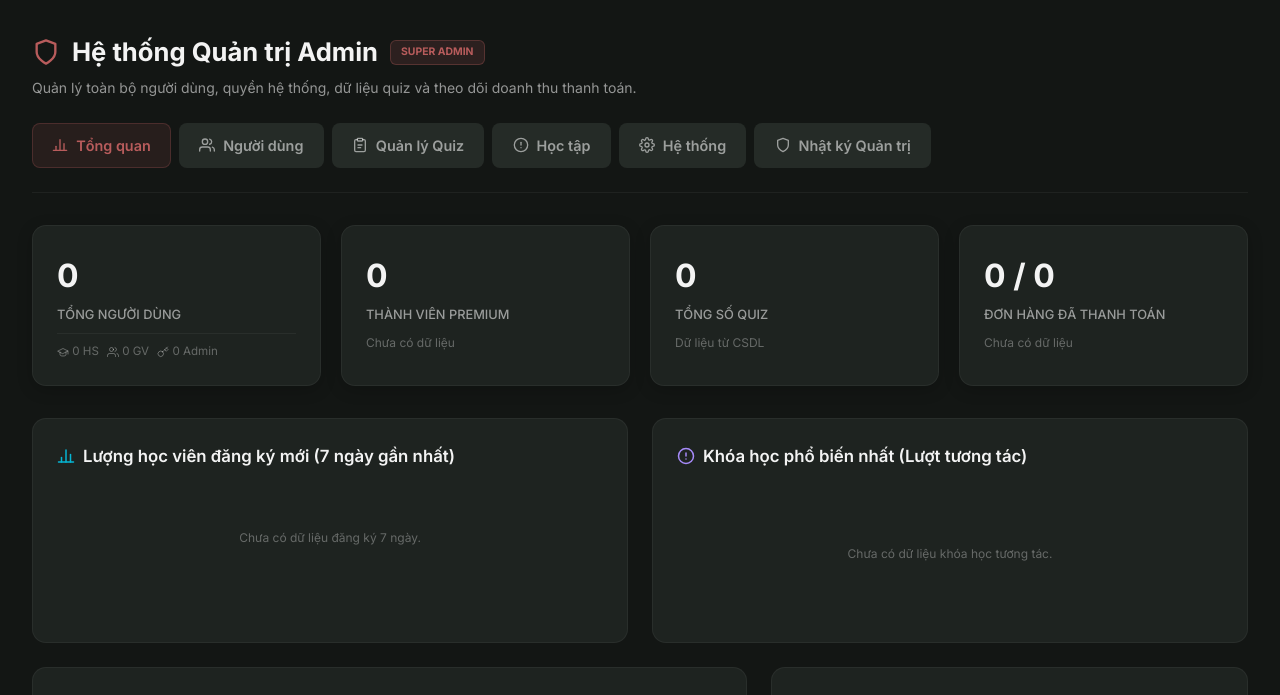
Test case: AdminPanelView — P0 Tests › Quiz Management › shows quiz details when expanded
Click the tab with class "tab-btn" showing "Quản lý Quiz": (408, 145) [332, 123, 484, 168]
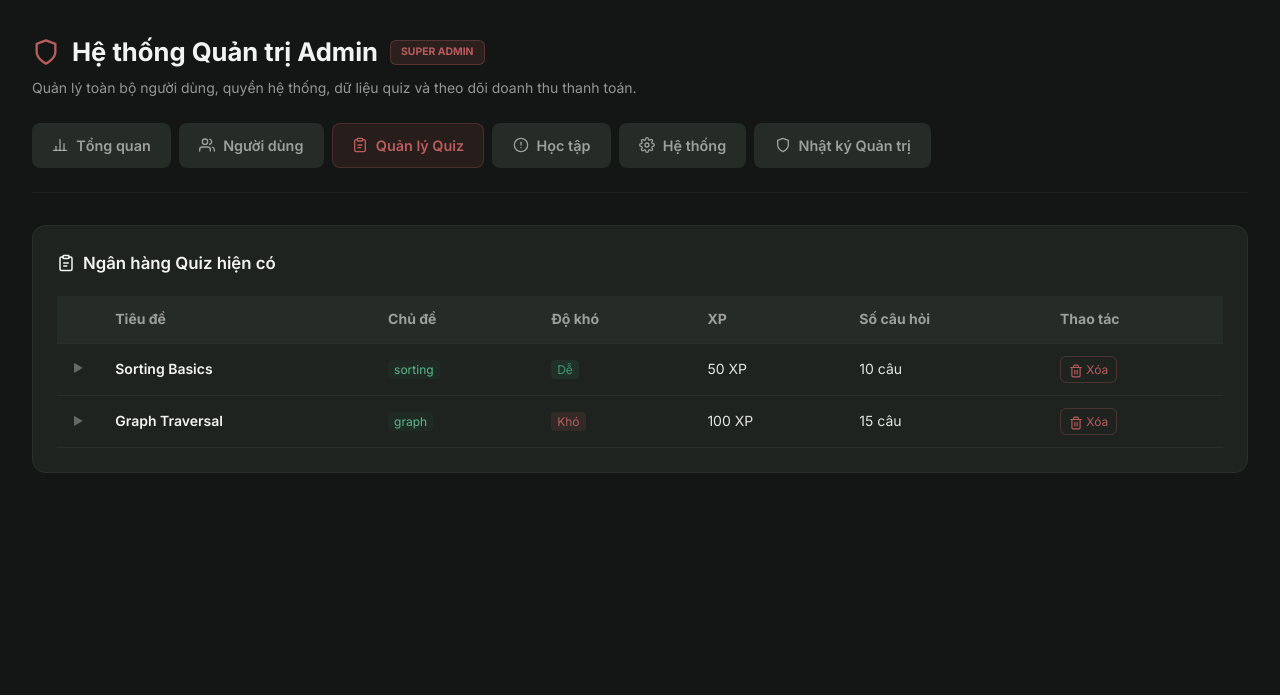
Click the row "▶ Sorting Basics sorting Dễ 50 XP 10 câu Xóa": (640, 369) [57, 343, 1223, 396]
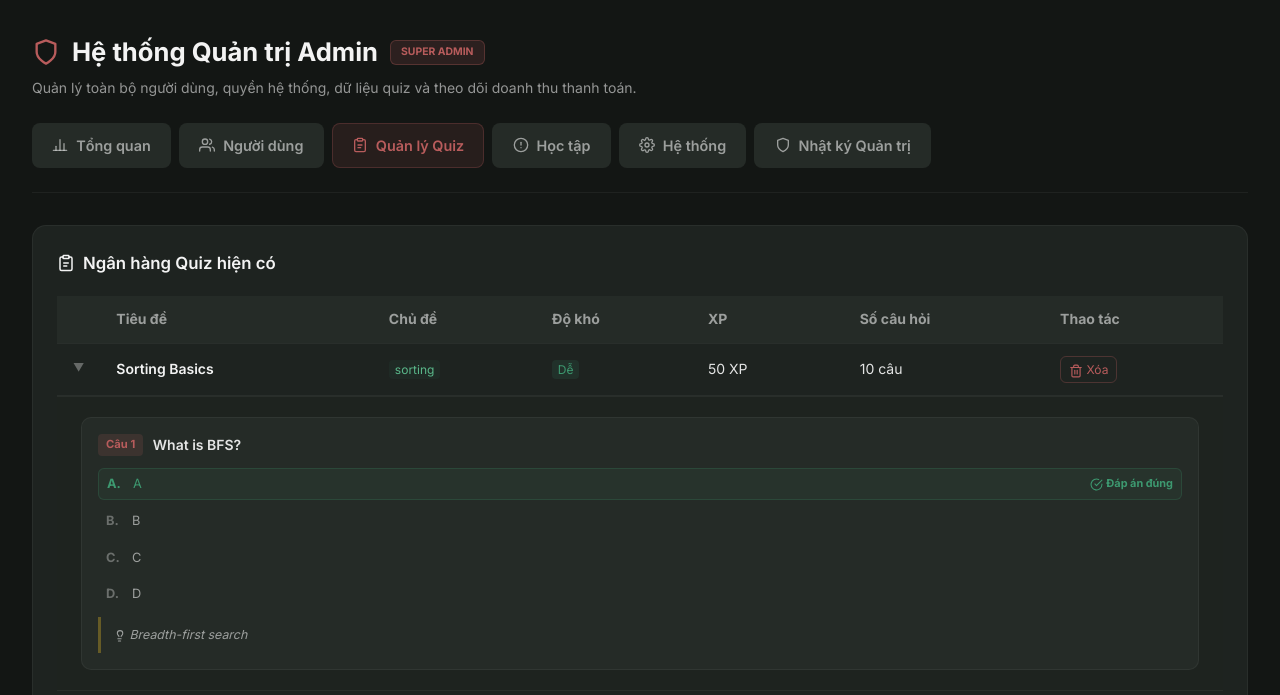
Result: the text "What is BFS?" is shown at [153, 434, 241, 455]
